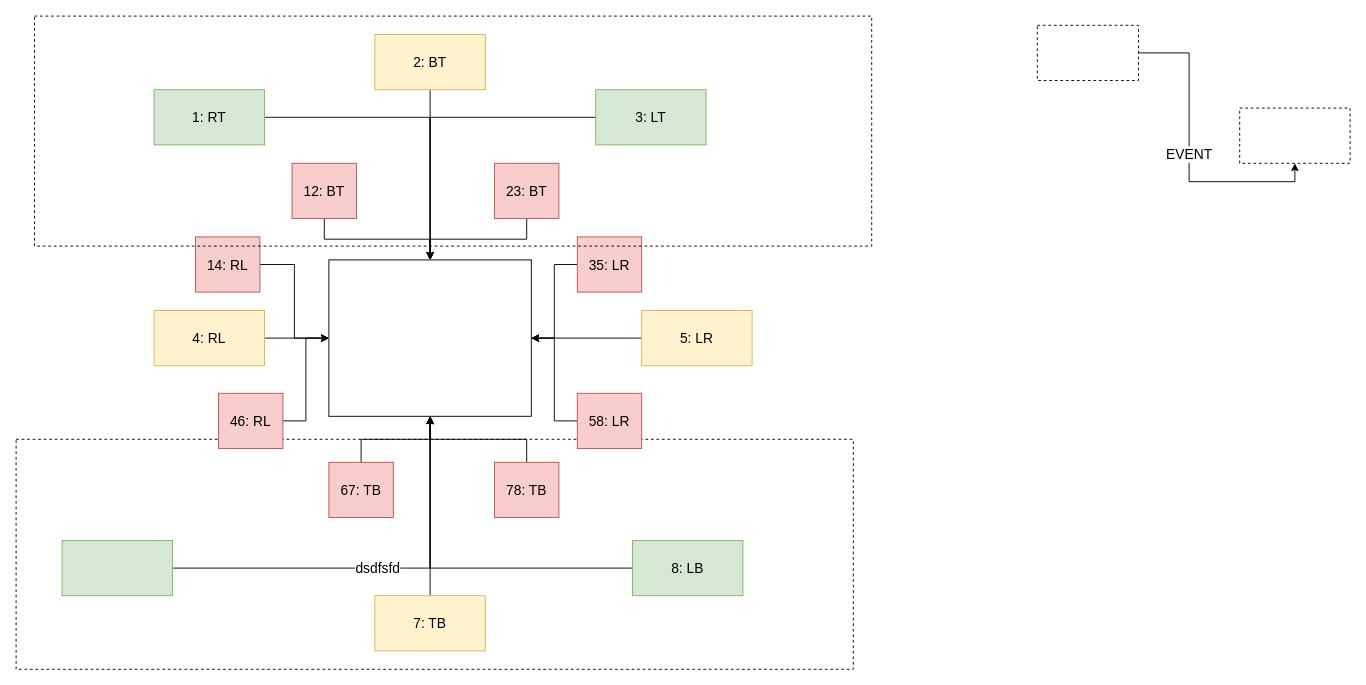
The diagram is 1366 pixels wide and 685 high, and some of its shapes have lost their labels. Each missing label, with the centre of its shape:
6: RB: the point at 116,568
OnEntry: xxx State: yyy OnExit: zzz: the point at 1087,52
